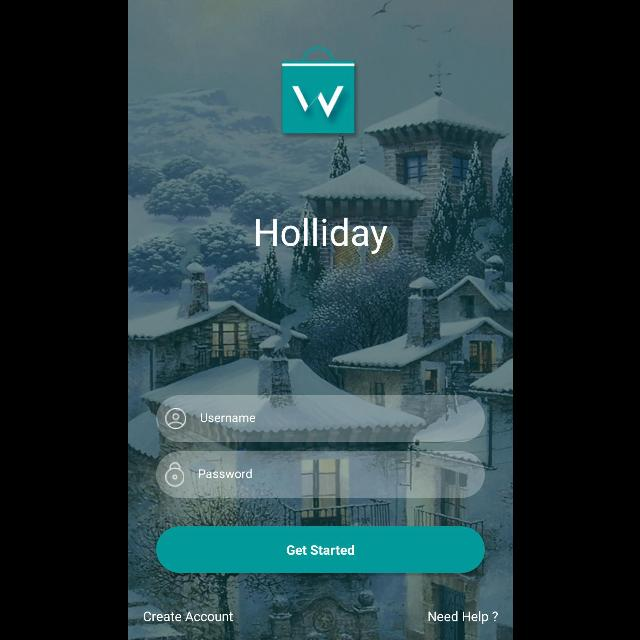backgroundimage: (128, 1, 512, 640)
icon: (164, 408, 186, 429), (164, 462, 183, 486)
image: (282, 46, 354, 134)
input: (156, 396, 484, 442), (156, 452, 484, 498)
text: (256, 218, 386, 254), (144, 611, 232, 621), (428, 612, 497, 624), (199, 469, 251, 479), (200, 413, 256, 422)
textbutton: (156, 526, 484, 574)
